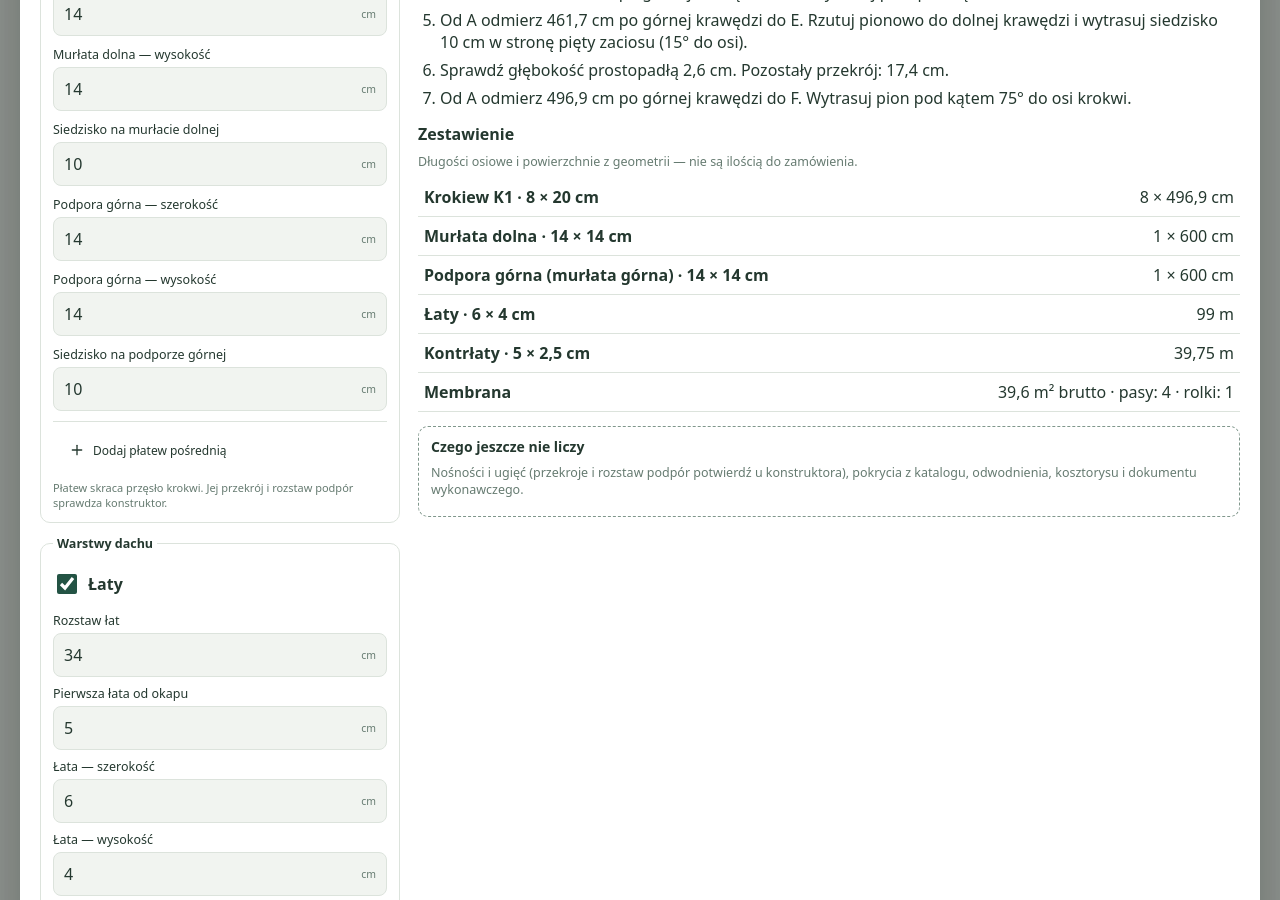
Test: intermediate purlins in the workspace (VNext-7B-5) › names a purlin outside the span at its own field, then removes it
This screenshot has width=1280, height=900.
(page scrolled)
Click the button with test id "mono-pitch-add-purlin" at (148, 450), box left=53, top=430, right=242, bottom=470
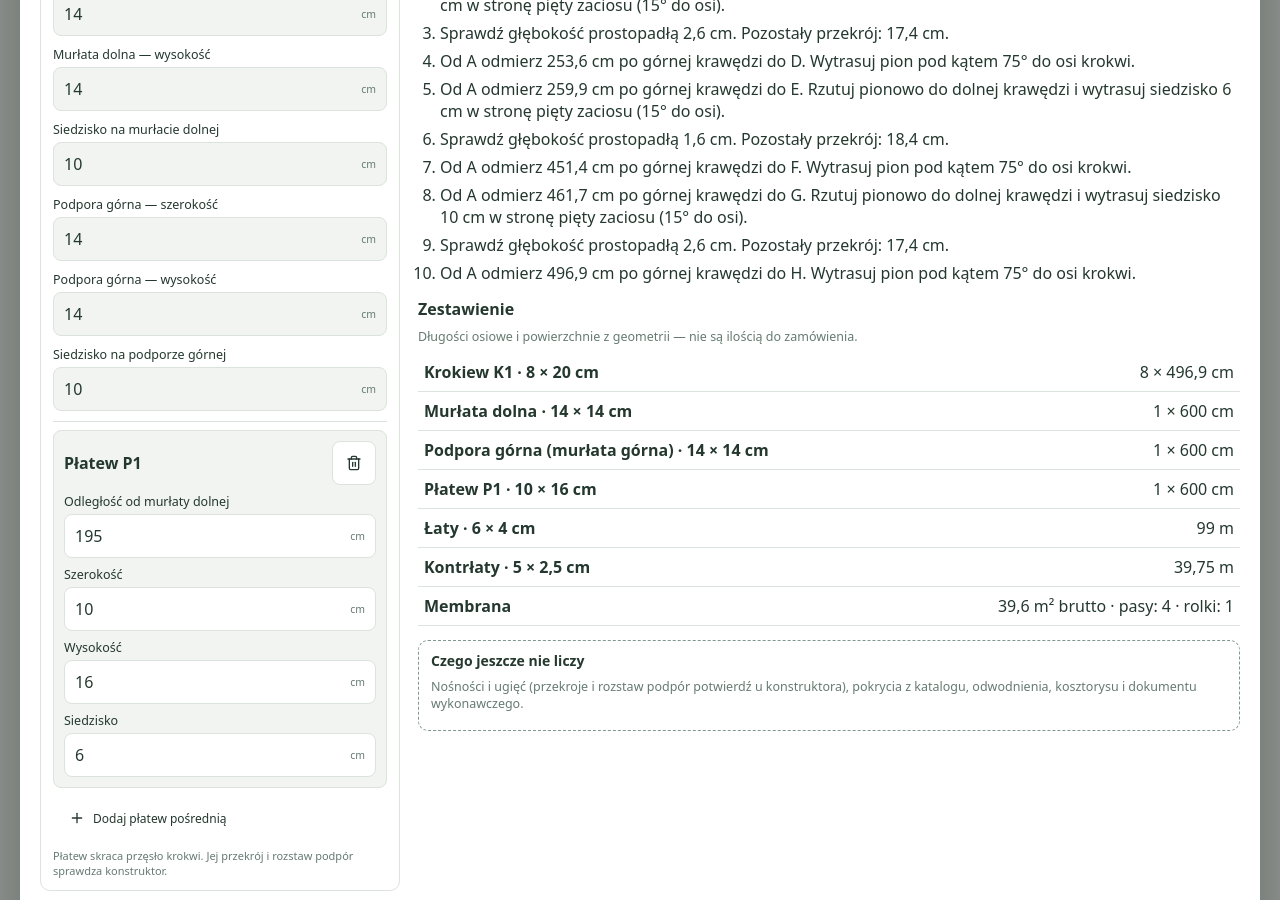
Replace the text in the field labelled "Odległość od murłaty dolnej cm" with "5" at (203, 536), box left=65, top=515, right=340, bottom=557
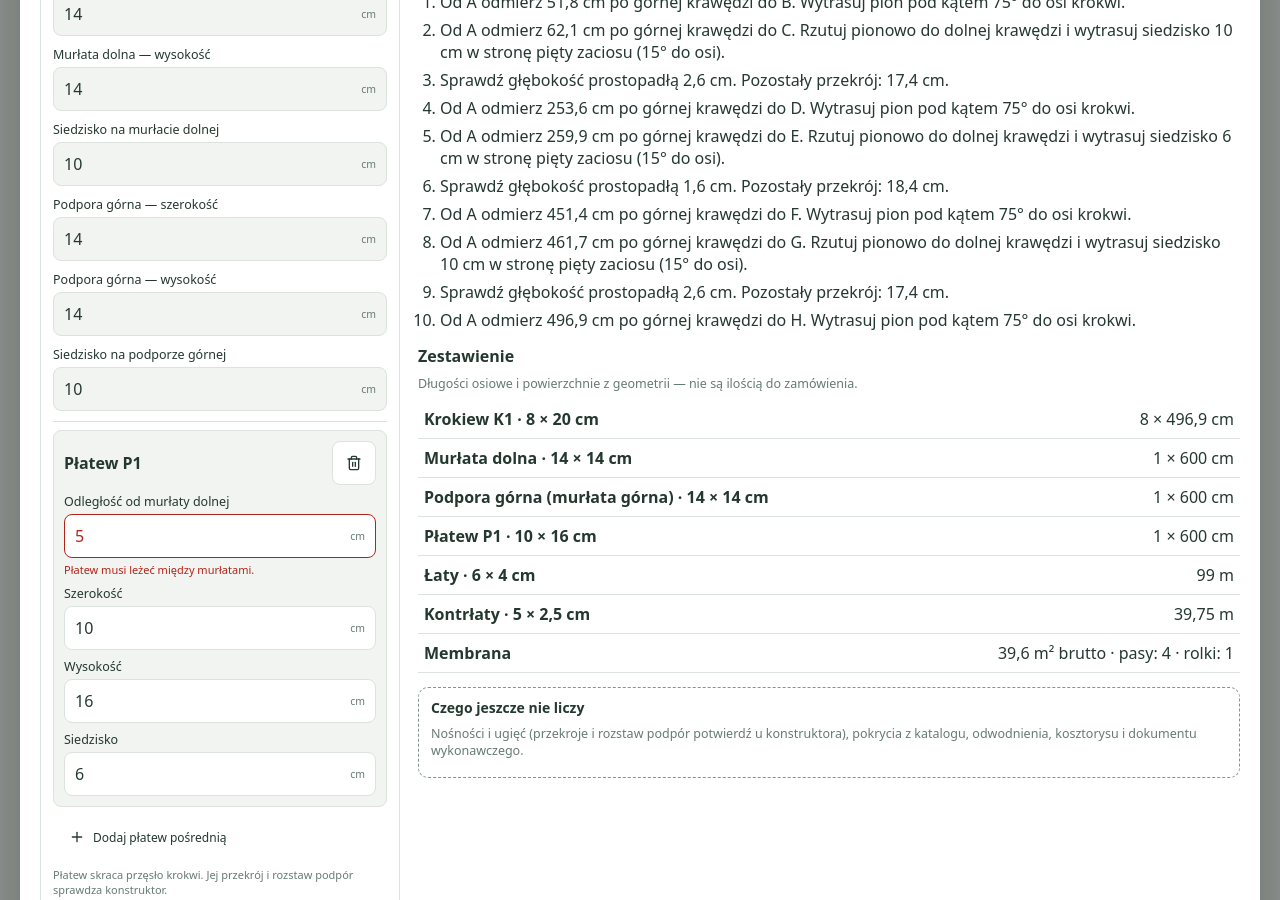
Result: the message reads "Płatew musi leżeć między murłatami." at left=64, top=562, right=254, bottom=577
Click the button named "Usuń płatew P1" at (354, 463), box left=332, top=441, right=376, bottom=485
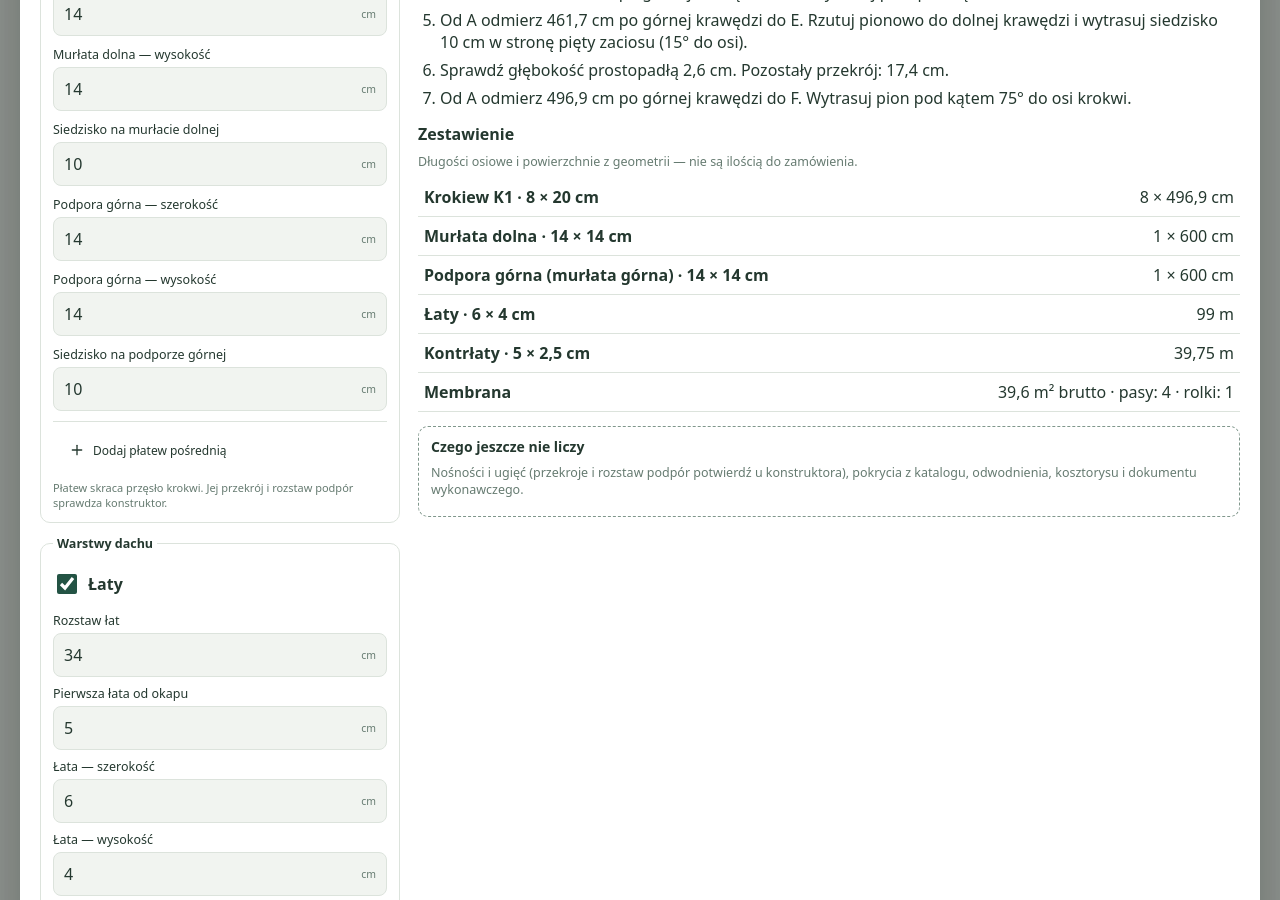
Result: the element with test id "mono-pitch-purlin-0" is gone
